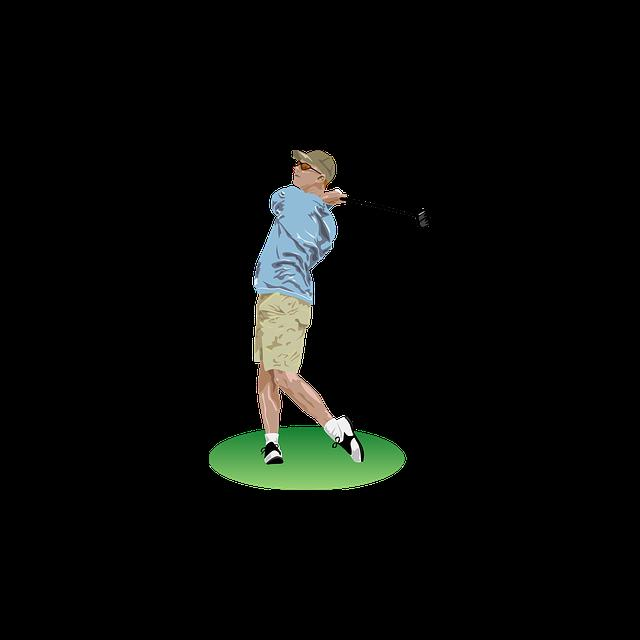male: (281, 150, 347, 200)
